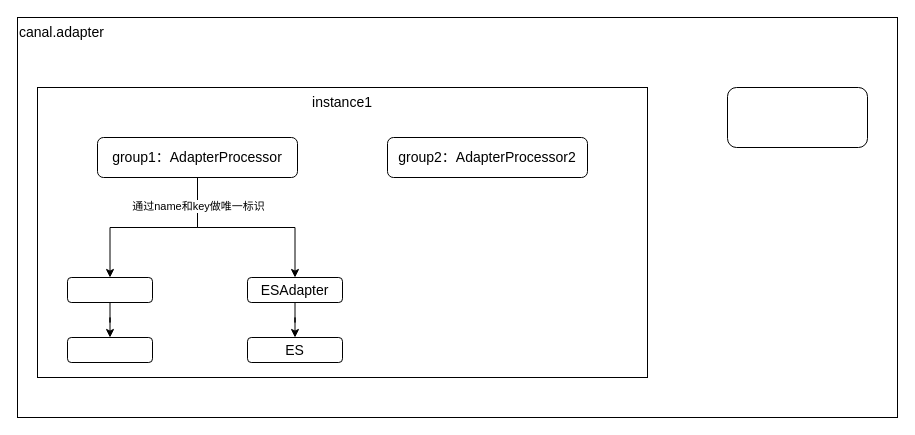
This 915x435 diagram has some shape labels left out. The centre of each missing label's shape, as x and y in pixels:
"instance2" belongs at (x=797, y=117).
"Mysql" belongs at (x=109, y=349).
"RdbAdapter" belongs at (x=109, y=289).
